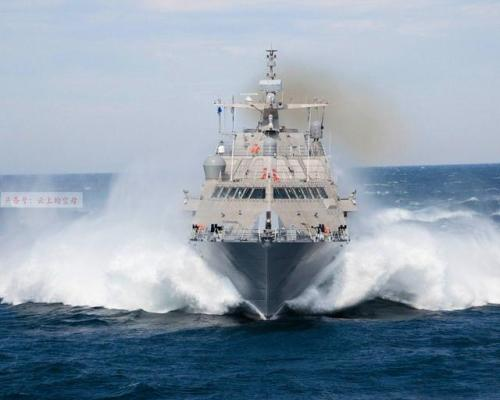smoke: (246, 59, 402, 147)
